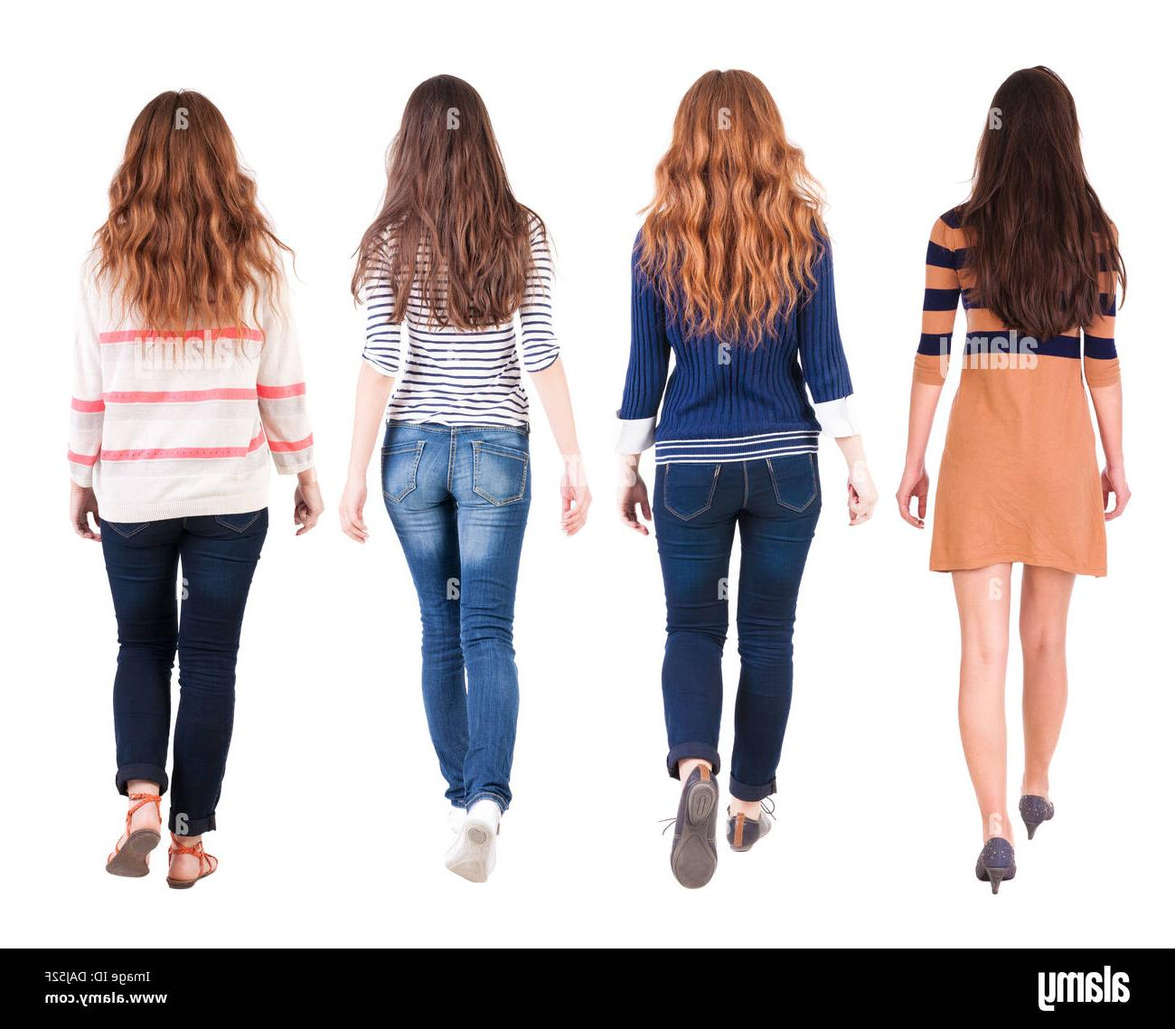dress: (907, 167, 1122, 578)
long sleeve shirt: (357, 202, 561, 428)
sweater: (63, 217, 318, 525), (606, 191, 869, 467)
trousers: (373, 421, 534, 810), (649, 451, 824, 799), (96, 504, 272, 838)
